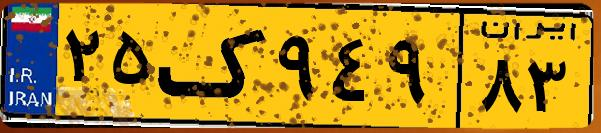2: (57, 26, 110, 100)
3: (525, 38, 570, 115)
4: (330, 28, 385, 110)
5: (110, 28, 158, 98)
8: (475, 38, 525, 113)
9: (270, 28, 330, 110), (385, 28, 445, 110)
ک: (158, 12, 270, 120)
